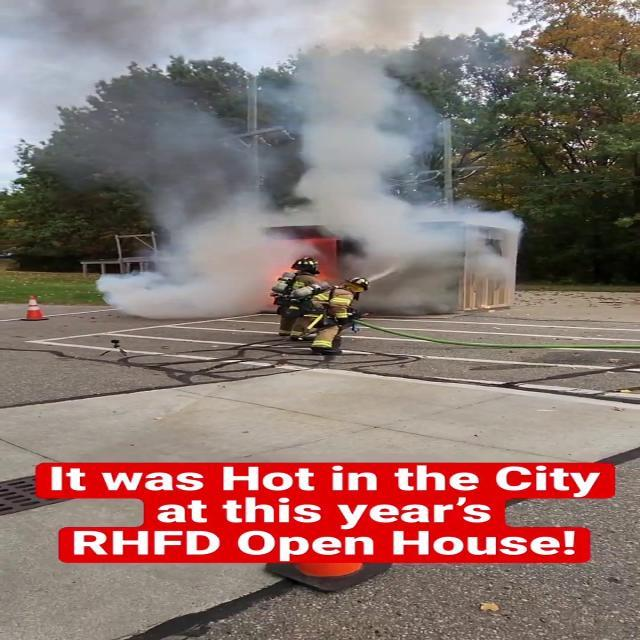Smoke: (23, 0, 503, 309)
